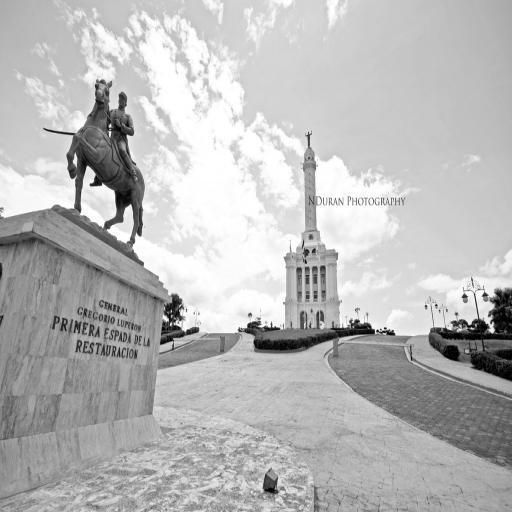horse: (66, 77, 146, 250)
